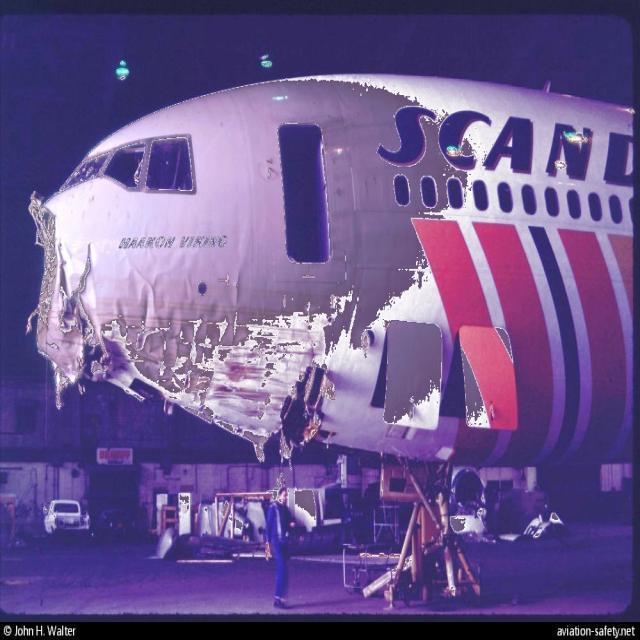crack: (59, 245, 98, 331)
dent: (222, 264, 254, 314), (170, 278, 193, 337), (134, 283, 160, 333), (116, 300, 130, 325)
